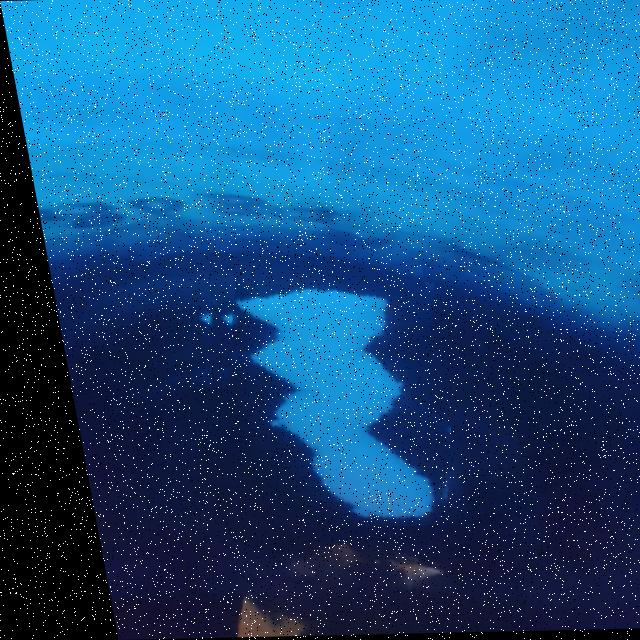litter: (170, 257, 449, 530)
